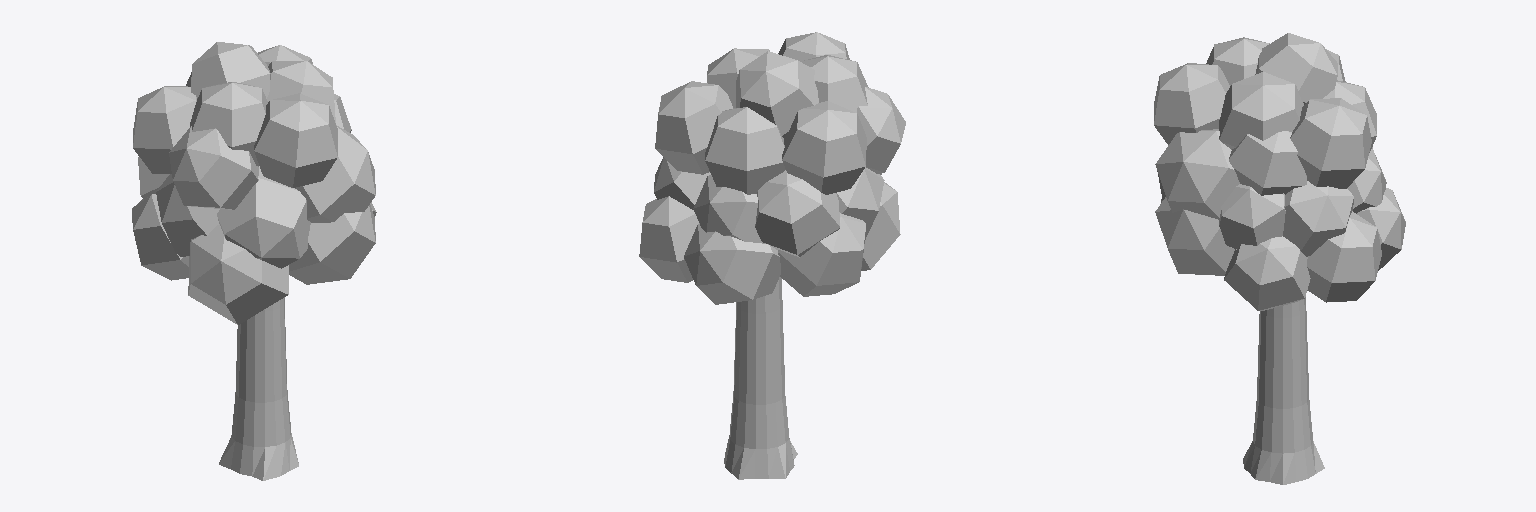
Rendered from bubbletree.obj.
3 renders of one model, left to right at view 1: azimuth 30°, elevation 25°; view 2: azimuth 150°, elevation 25°; view 3: azimuth 270°, elevation 25°, orthographic.
Parts seen in each view (by area): view 1: pCylinder4; view 2: pCylinder4; view 3: pCylinder4.
Part boxes in pixels (x1,y1,x2,y2): pCylinder4: (132, 42, 376, 480); pCylinder4: (639, 32, 905, 479); pCylinder4: (1154, 33, 1405, 484).
Bounding box in the file's own units: 3.65 × 6.59 × 3.61.